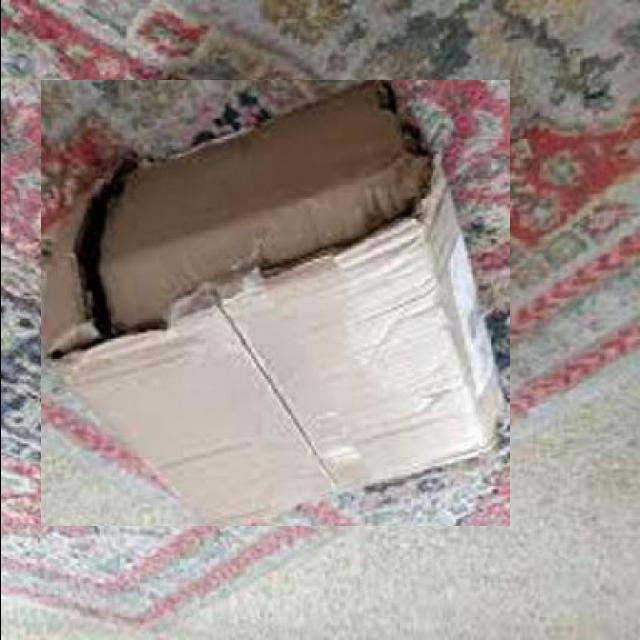defect: (40, 80, 509, 526)
